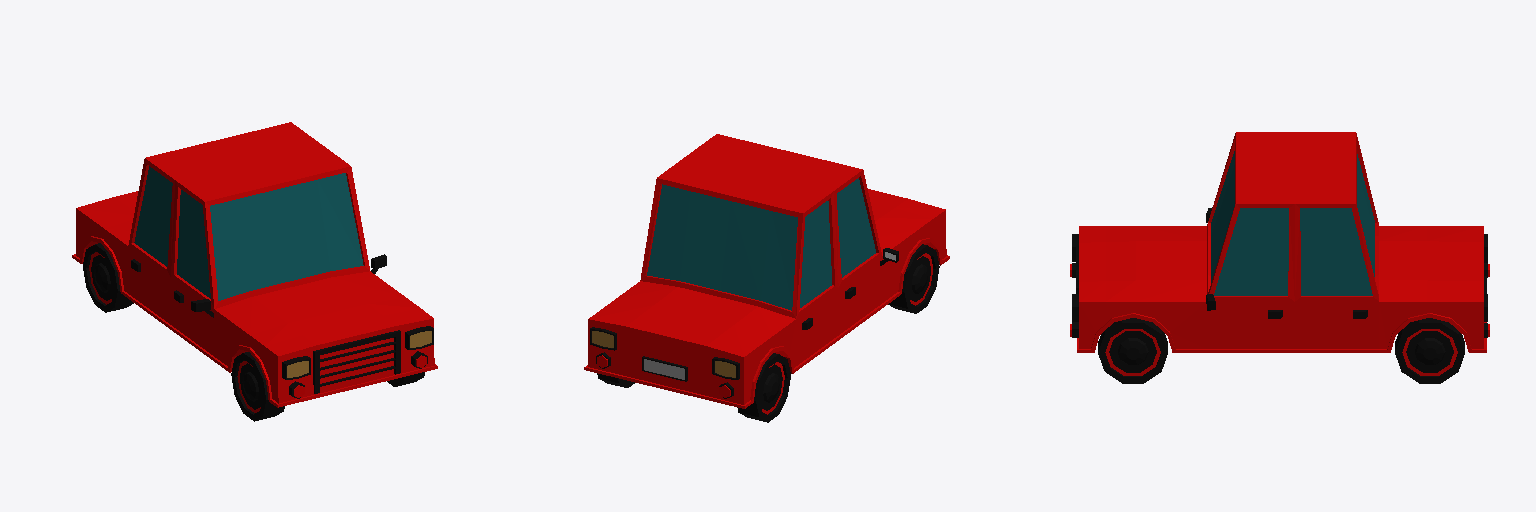
File: car6.obj
3 views of the same model, side by side, from view 1: azimuth 30°, elevation 25°; view 2: azimuth 150°, elevation 25°; view 3: azimuth 270°, elevation 25° (orthographic).
Visible parts, largest first — view 1: Cube; view 2: Cube; view 3: Cube.
Boxes of the visible parts, x1,y1,x2,y2 form: Cube: [72, 122, 437, 421]; Cube: [584, 134, 949, 422]; Cube: [1070, 132, 1489, 383].
Bounding box in the file's own units: 3.39 × 2.95 × 6.35.